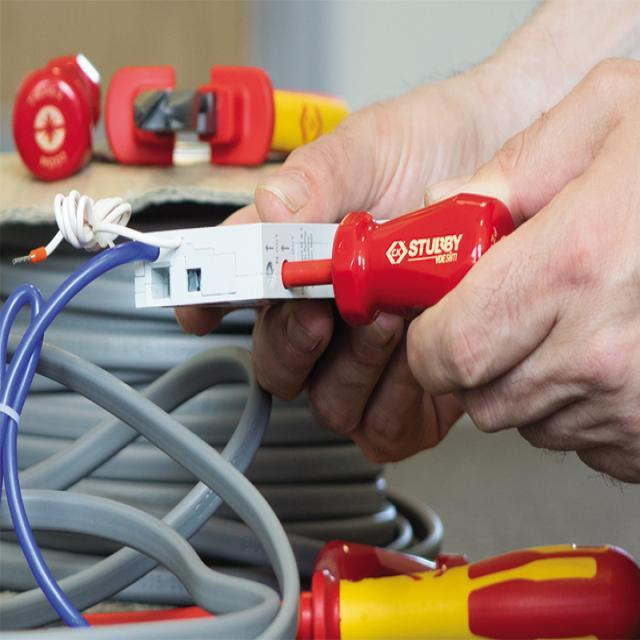screwdriver: (44, 541, 640, 640), (280, 185, 534, 302)
